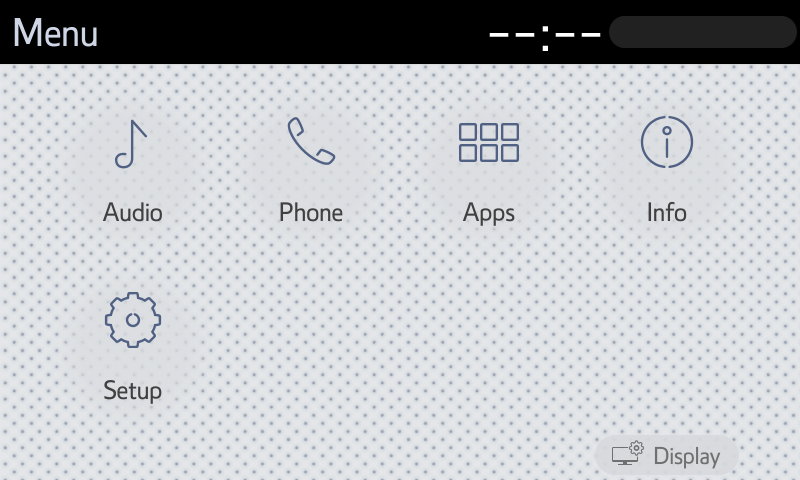touchPart: (435, 114, 561, 235), (479, 9, 793, 51), (70, 118, 186, 230), (615, 112, 711, 234), (86, 291, 189, 400), (262, 109, 353, 223), (594, 427, 747, 472)
untouchPart: (10, 11, 102, 51)
